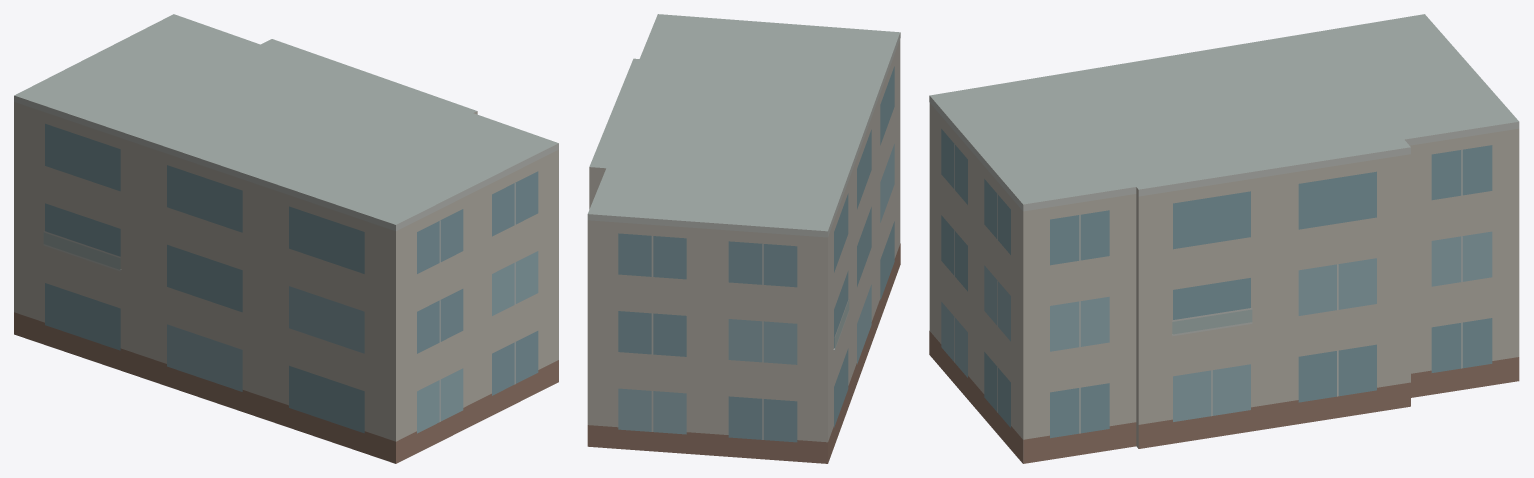
Rendered from survey-upis-32697637.glb.
3 views of the same model, side by side, from view 1: azimuth 30°, elevation 25°; view 2: azimuth 150°, elevation 25°; view 3: azimuth 270°, elevation 25° (orthographic). The views are drawn at different scales.
Parts seen in each view (by area): view 1: survey-upis-32697637.tmp; view 2: survey-upis-32697637.tmp; view 3: survey-upis-32697637.tmp.
Part boxes in pixels (left/top/right/bottom): survey-upis-32697637.tmp: left=14, top=14, right=558, bottom=463; survey-upis-32697637.tmp: left=587, top=14, right=900, bottom=463; survey-upis-32697637.tmp: left=929, top=14, right=1519, bottom=463.
Size of the model in its own units: 14.43 by 9.15 by 18.87.
